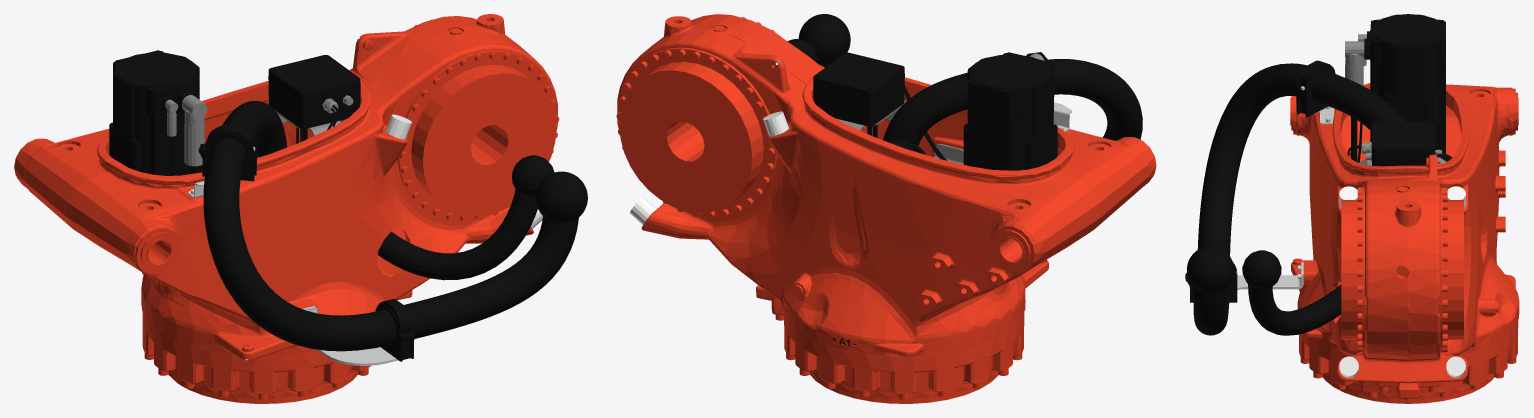
3 renders of one model, left to right at view 1: azimuth 30°, elevation 25°; view 2: azimuth 150°, elevation 25°; view 3: azimuth 270°, elevation 25°, orthographic. The views are drawn at different scales.
Visible parts, largest first — view 1: link_1; view 2: link_1; view 3: link_1.
Part boxes in pixels (box(x1,y1,x2,y2)): link_1: box(14, 14, 587, 403); link_1: box(616, 14, 1156, 403); link_1: box(1185, 14, 1519, 403).
Size of the model in its own units: 1.24 by 0.843 by 0.8044.
